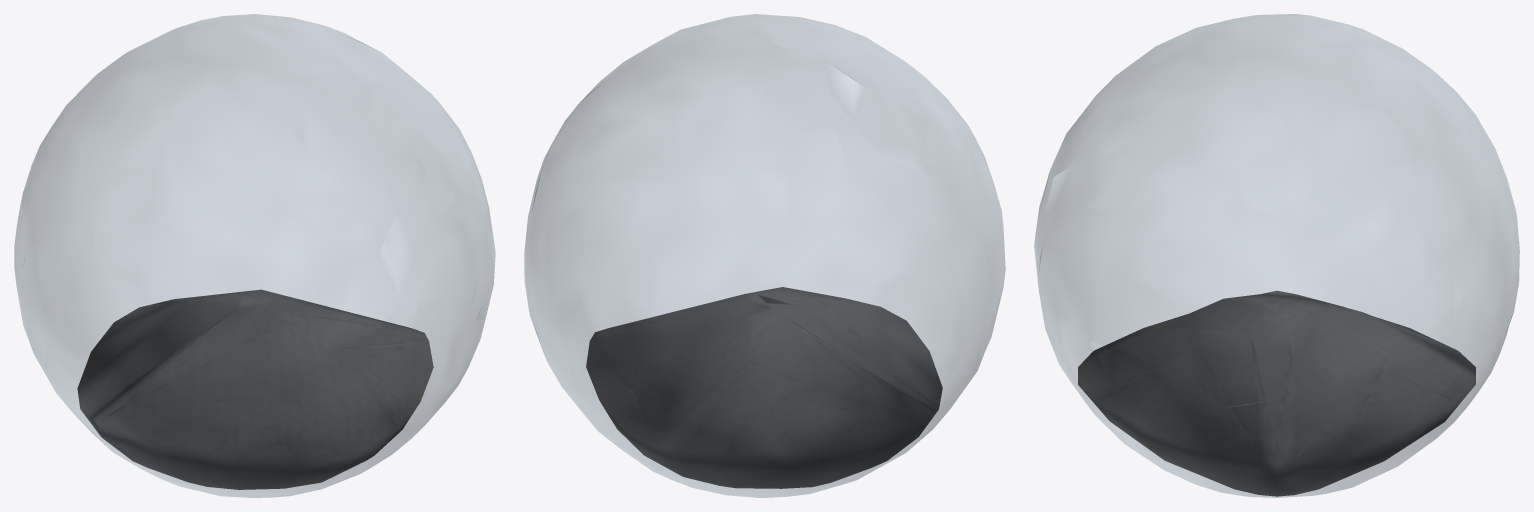
Rendered from item-151.gltf.
3 views of the same model, side by side, from view 1: azimuth 30°, elevation 25°; view 2: azimuth 150°, elevation 25°; view 3: azimuth 270°, elevation 25° (orthographic).
Parts seen in each view (by area): view 1: antimony_orb__exp; view 2: antimony_orb__exp; view 3: antimony_orb__exp.
Part boxes in pixels (bbox=[...]): antimony_orb__exp: bbox=[14, 14, 495, 497]; antimony_orb__exp: bbox=[524, 14, 1005, 497]; antimony_orb__exp: bbox=[1034, 14, 1519, 497].
Size of what is drawn, in the model's own units: 0.6258 by 0.6278 by 0.6268.
2 materials, 1 textured.
